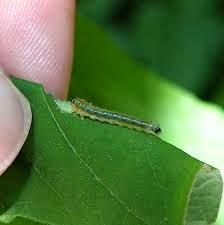Caterpillar: (70, 95, 162, 137)
